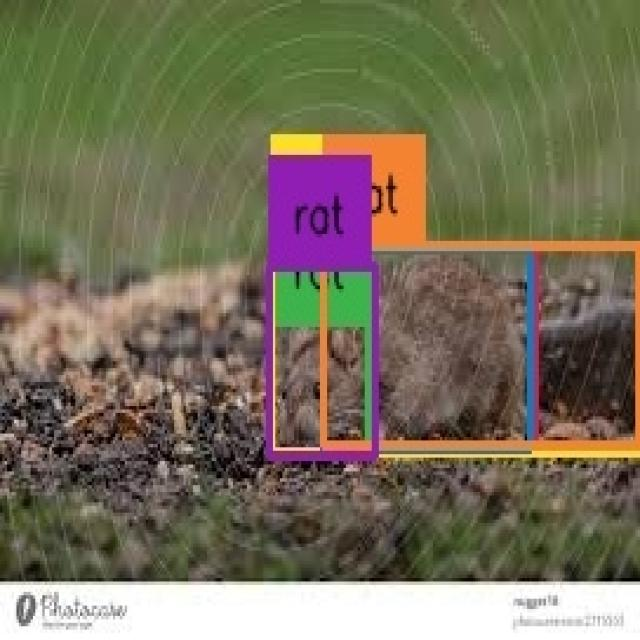rat: (272, 246, 639, 452), (322, 248, 640, 447), (270, 248, 536, 454), (322, 248, 532, 447), (268, 265, 374, 458), (270, 322, 368, 456)
